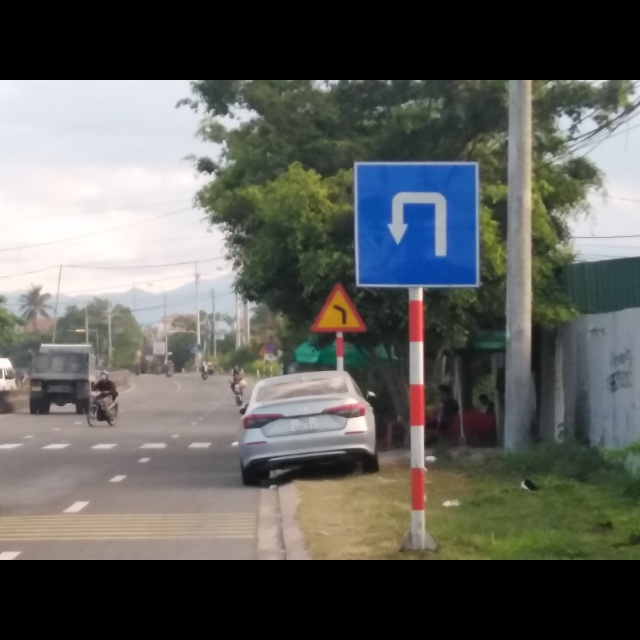Khu vực quay đầu xe: (353, 159, 480, 291)
